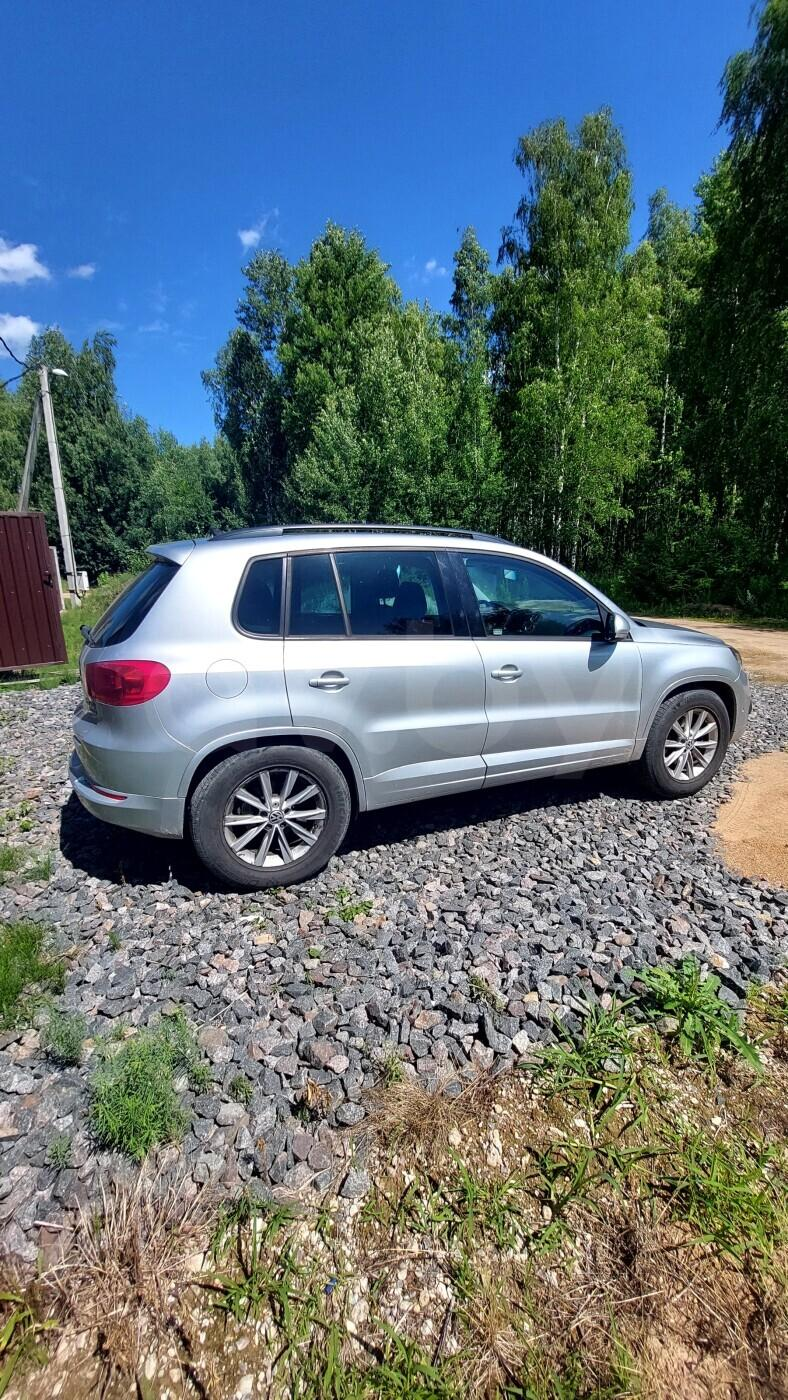Tiguan_2011-2018: (66, 518, 754, 892)
